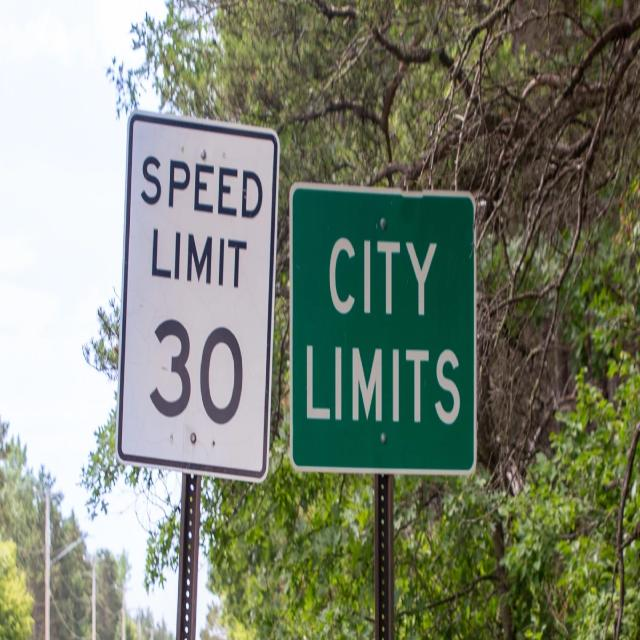Speed Limit Signs: (114, 106, 282, 487)
